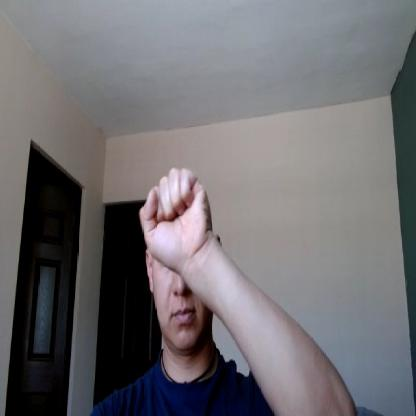S: (139, 168, 210, 270)
